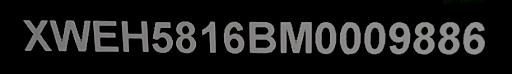letter: (48, 16, 92, 55), (276, 18, 314, 58), (19, 14, 55, 53), (118, 17, 152, 55), (246, 17, 278, 57), (89, 17, 119, 55), (148, 17, 176, 56), (172, 18, 200, 56), (410, 19, 438, 57), (436, 18, 462, 58), (360, 19, 388, 56), (220, 18, 246, 56), (387, 19, 413, 57), (461, 19, 487, 56), (338, 19, 362, 59), (314, 20, 338, 58), (198, 18, 220, 56)
